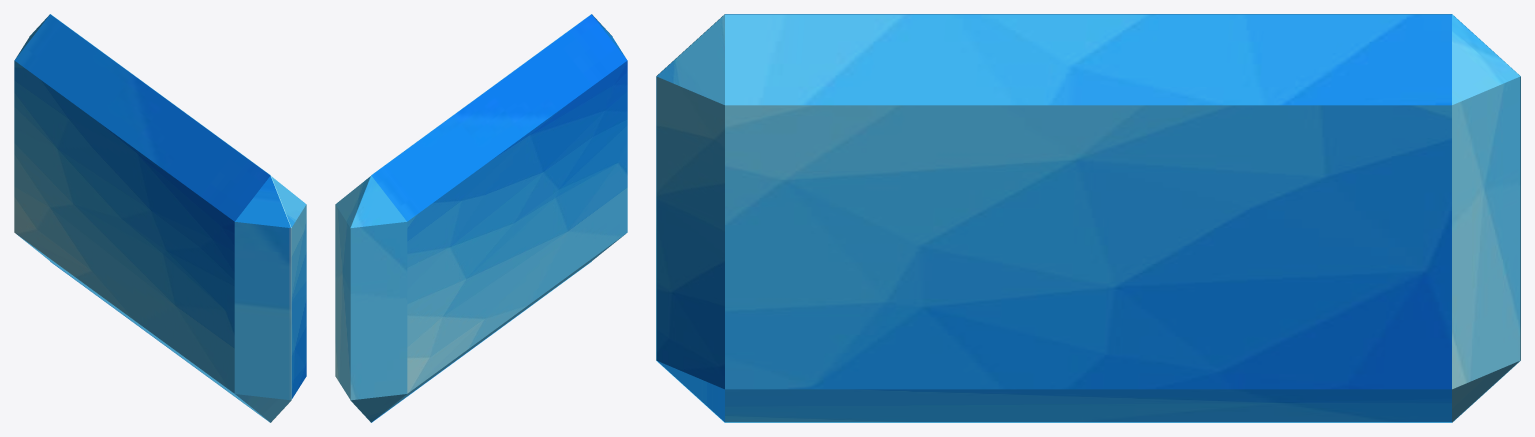
The model's file is wallTest3.fbx.
3 views of the same model, side by side, from view 1: azimuth 30°, elevation 25°; view 2: azimuth 150°, elevation 25°; view 3: azimuth 270°, elevation 25° (orthographic). The views are drawn at different scales.
Visible parts, largest first — view 1: Cube; view 2: Cube; view 3: Cube.
Part boxes in pixels (x1,y1,x2,y2): Cube: (14,14,306,422); Cube: (335,14,627,422); Cube: (656,14,1520,422).
Size of the model in its own units: 0.4303 by 1.42 by 2.72.
Materials: 1 (1 with a texture image).
